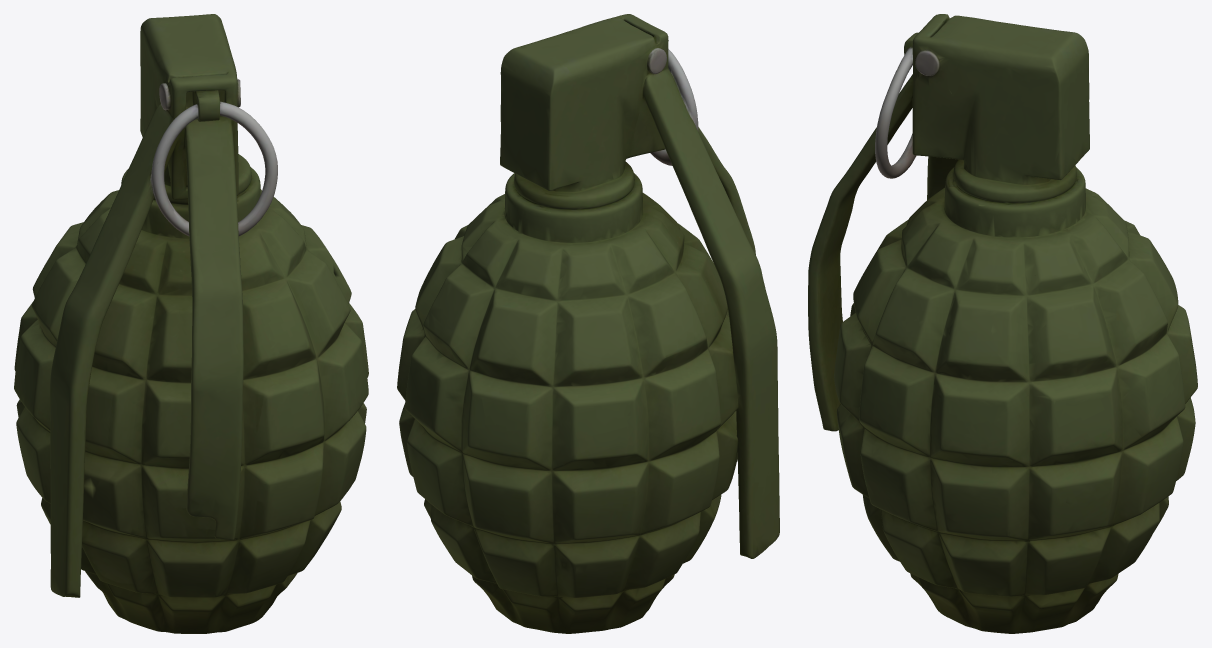
The model's file is grenade.glb.
3 views of the same model, side by side, from view 1: azimuth 30°, elevation 25°; view 2: azimuth 150°, elevation 25°; view 3: azimuth 270°, elevation 25° (orthographic).
Parts seen in each view (by area): view 1: geometry_0; view 2: geometry_0; view 3: geometry_0.
Boxes of the visible parts, x1,y1,x2,y2 form: geometry_0: [14, 14, 368, 633]; geometry_0: [397, 14, 779, 633]; geometry_0: [808, 14, 1197, 633].
Size of the model in its own units: 0.0955 by 0.16 by 0.1006.
1 material, 1 textured.
